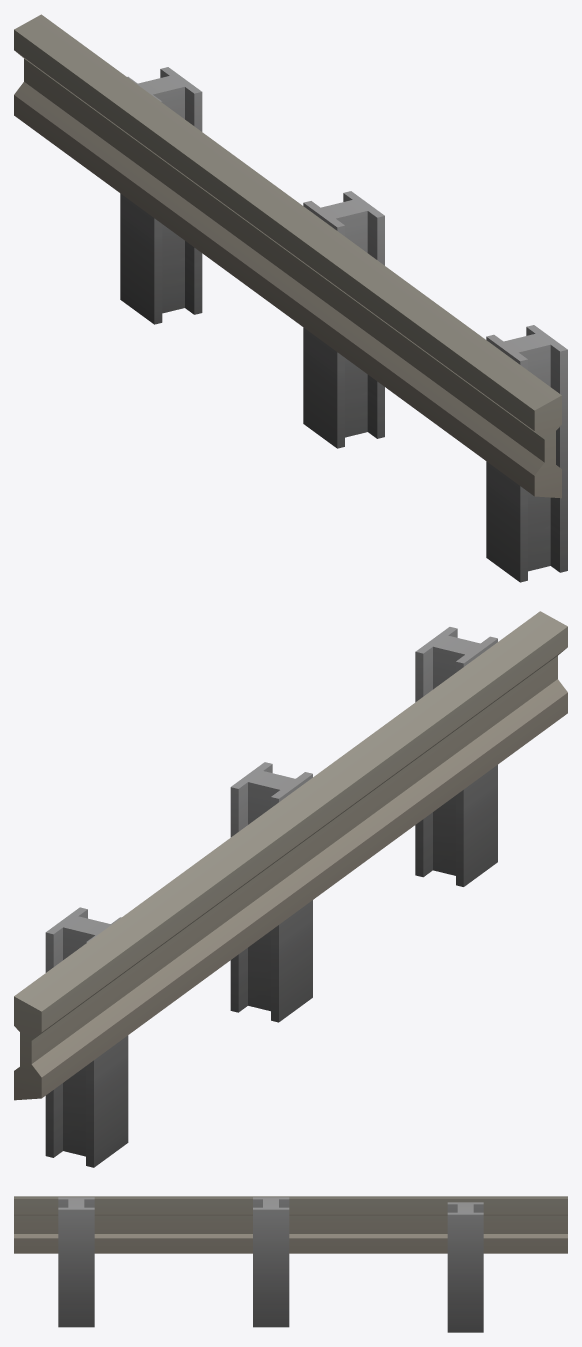
The model's file is RoadBarier_2_C_2.glb.
3 views of the same model, one above another, from view 1: azimuth 30°, elevation 25°; view 2: azimuth 150°, elevation 25°; view 3: azimuth 270°, elevation 25° (orthographic). The views are drawn at different scales.
Visible parts, largest first — view 1: RoadBarier_2_C_2; view 2: RoadBarier_2_C_2; view 3: RoadBarier_2_C_2.
Boxes of the visible parts, x1=… form: RoadBarier_2_C_2: x1=14, y1=14, x2=567, y2=582; RoadBarier_2_C_2: x1=14, y1=611, x2=567, y2=1167; RoadBarier_2_C_2: x1=14, y1=1196, x2=567, y2=1332.
Size of the model in its own units: 0.2502 by 0.7347 by 3.
Materials: 1 (1 with a texture image).
